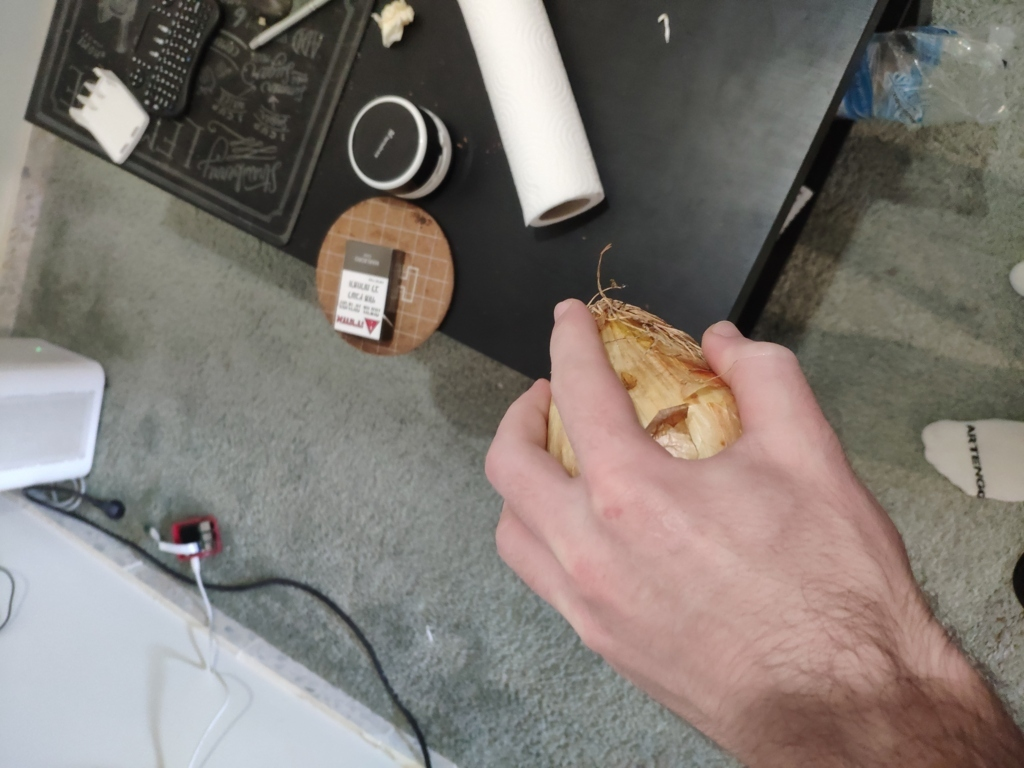Onion: (547, 287, 796, 585)
